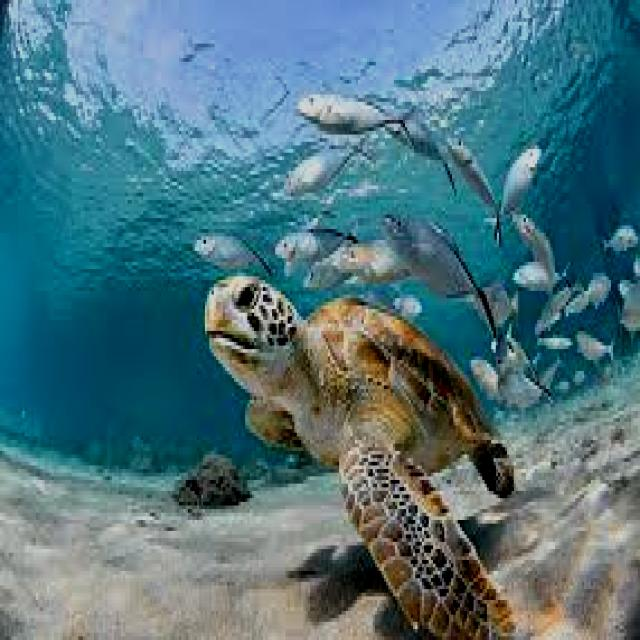Sea turtle: (203, 278, 520, 640)
